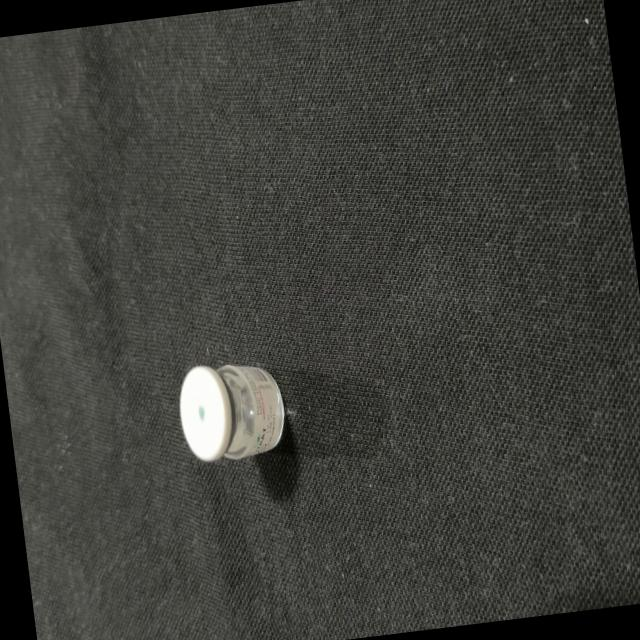fentanl_citrat: (176, 358, 287, 464)
